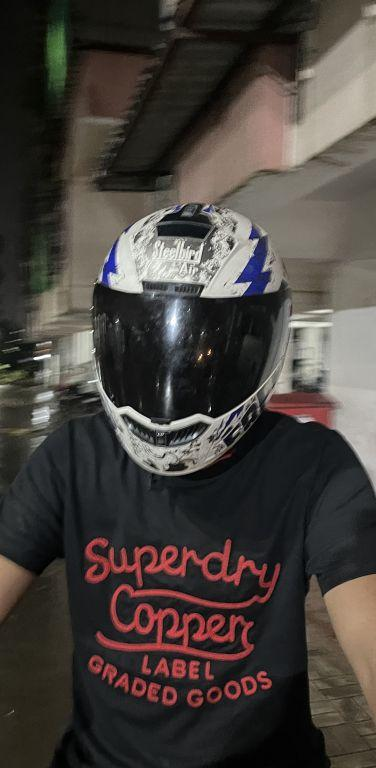helmet: (74, 194, 298, 486)
